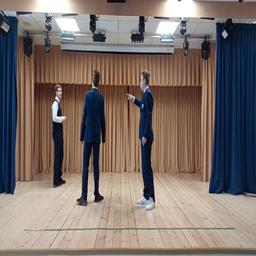person: (126, 71, 156, 209), (77, 70, 106, 206), (51, 84, 66, 188)
